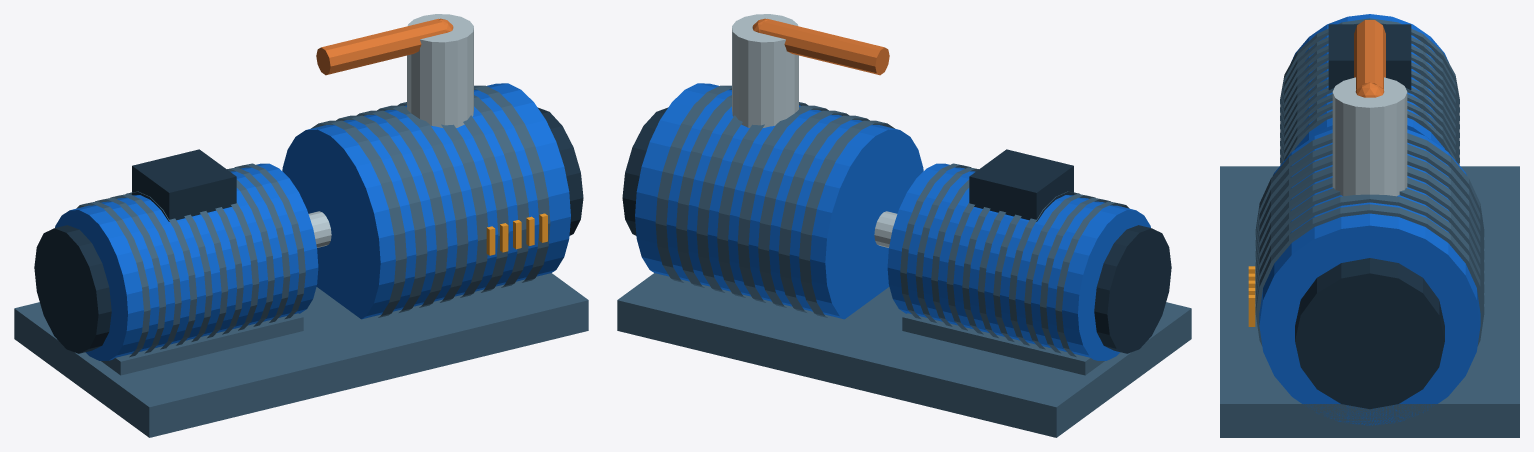
The model's file is 01_L69_VariableSpeedRefrigerationCompressor.fbx.
3 renders of one model, left to right at view 1: azimuth 30°, elevation 25°; view 2: azimuth 150°, elevation 25°; view 3: azimuth 270°, elevation 25°, orthographic. The views are drawn at different scales.
Visible parts, largest first — view 1: VariableSpeedRefrigerationCompressor; view 2: VariableSpeedRefrigerationCompressor; view 3: VariableSpeedRefrigerationCompressor.
Part boxes in pixels (box(x1,y1,x2,y2)): VariableSpeedRefrigerationCompressor: box(14, 14, 588, 437); VariableSpeedRefrigerationCompressor: box(617, 14, 1191, 437); VariableSpeedRefrigerationCompressor: box(1220, 14, 1519, 437).
Bounding box in the file's own units: 330 × 184 × 160.
